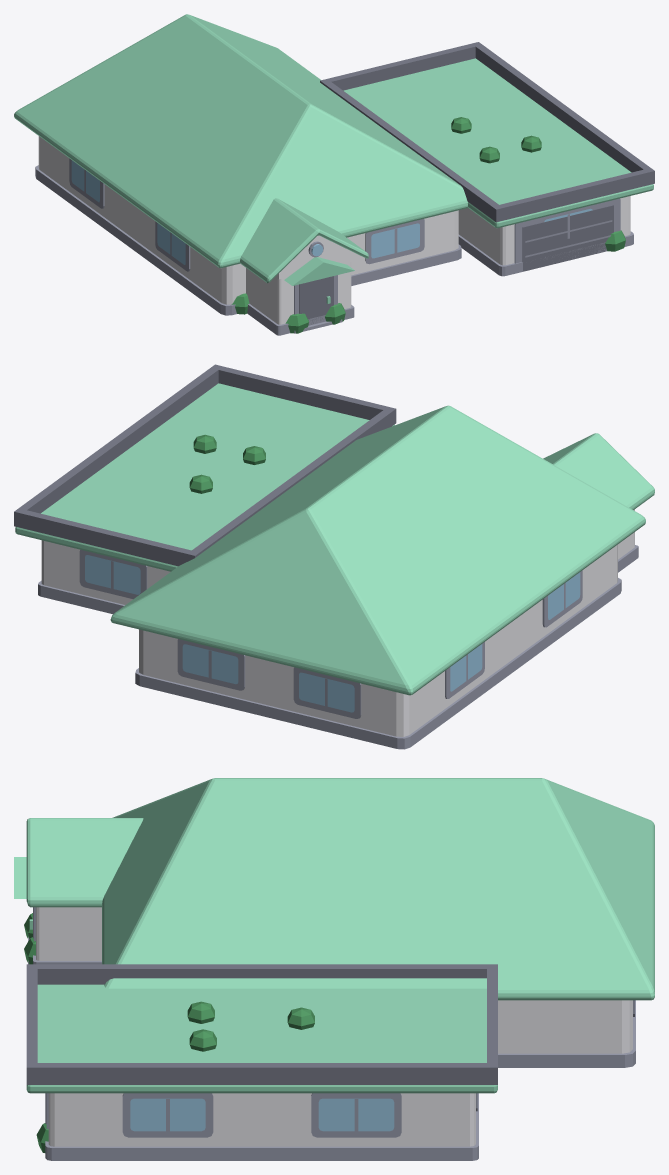
The model's file is house-2x2-1f-mansard-a.glb.
3 renders of one model, top to bottom at view 1: azimuth 30°, elevation 25°; view 2: azimuth 150°, elevation 25°; view 3: azimuth 270°, elevation 25°, orthographic. The views are drawn at different scales.
Parts seen in each view (by area): view 1: house-2x2-1f-mansard-a; view 2: house-2x2-1f-mansard-a; view 3: house-2x2-1f-mansard-a.
Part boxes in pixels (left/top/right/bottom): house-2x2-1f-mansard-a: left=14, top=14, right=654, bottom=335; house-2x2-1f-mansard-a: left=14, top=364, right=654, bottom=749; house-2x2-1f-mansard-a: left=14, top=778, right=654, bottom=1160.
Bounding box in the file's own units: 2 × 0.7411 × 2.04.
1 material, 1 textured.
